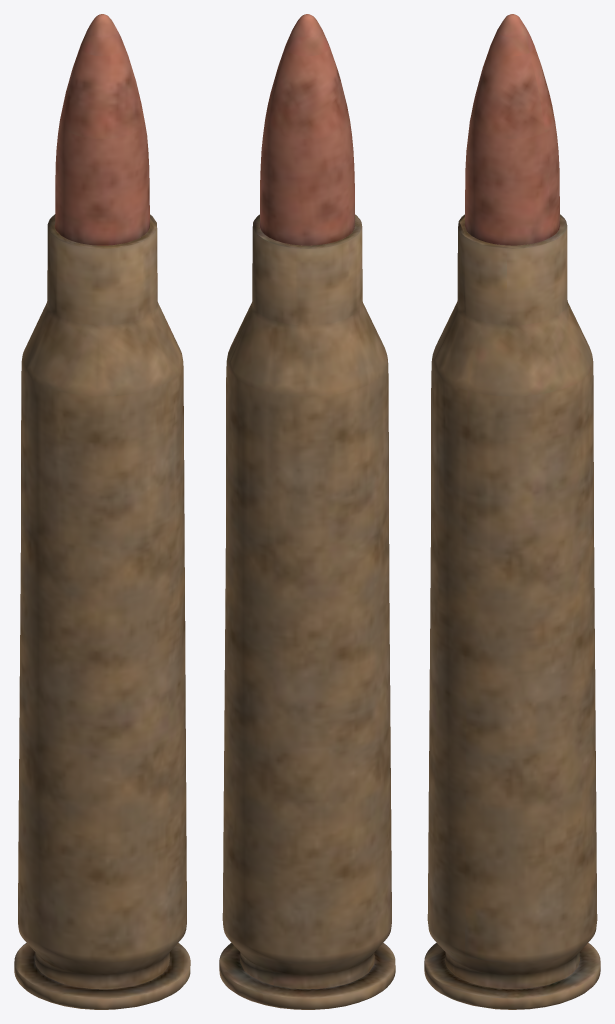
File: bala_rifle.glb
3 views of the same model, side by side, from view 1: azimuth 30°, elevation 25°; view 2: azimuth 150°, elevation 25°; view 3: azimuth 270°, elevation 25° (orthographic).
Visible parts, largest first — view 1: Cylinder; view 2: Cylinder; view 3: Cylinder.
Part boxes in pixels (<box>): Cylinder: <box>14,14,190,1009</box>; Cylinder: <box>219,14,395,1009</box>; Cylinder: <box>424,14,600,1009</box>.
Size of the model in its own units: 243 by 1460 by 243.
1 material, 1 textured.
